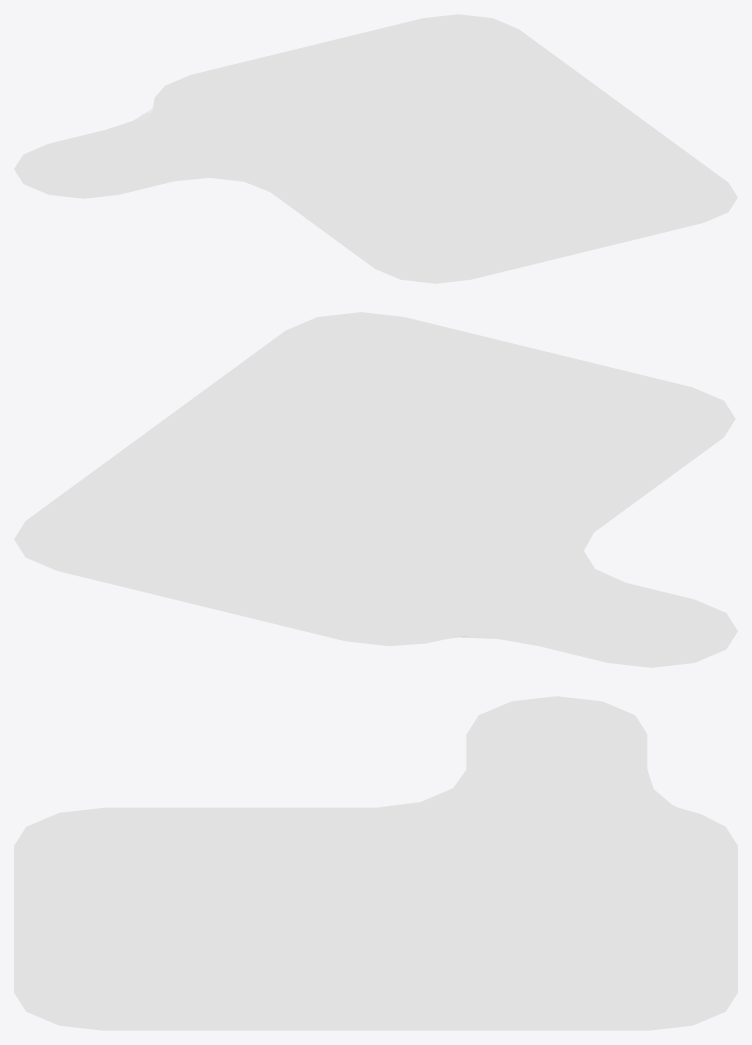
The model's file is carPark.fbx.
3 views of the same model, one above another, from view 1: azimuth 30°, elevation 25°; view 2: azimuth 150°, elevation 25°; view 3: azimuth 270°, elevation 25° (orthographic). The views are drawn at different scales.
Visible parts, largest first — view 1: Plane; view 2: Plane; view 3: Plane.
Part boxes in pixels (x1=…): Plane: x1=14, y1=14, x2=737, y2=283; Plane: x1=14, y1=312, x2=737, y2=667; Plane: x1=14, y1=696, x2=737, y2=1030.
Bounding box in the file's own units: 175 × 0.104 × 160.
